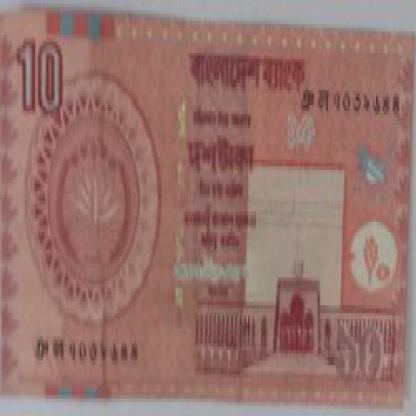Ten Taka: (15, 25, 67, 128), (330, 316, 391, 395)
